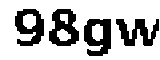8: (49, 6, 81, 51)
9: (12, 8, 48, 48)
g: (83, 17, 114, 60)
w: (115, 18, 160, 51)
